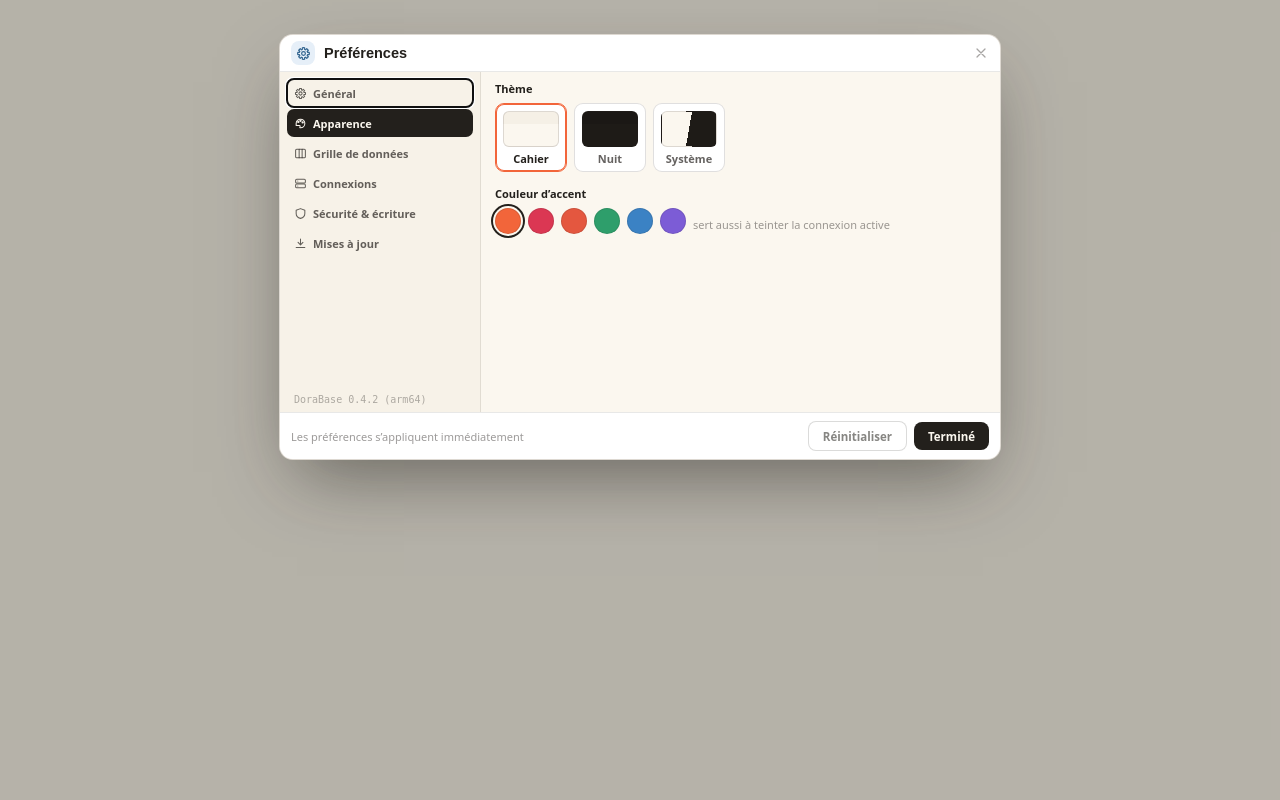
Scenario: la grille et le code (`15c`) › un corps de police élevé relève le plancher du curseur, et le dit
This screenshot has width=1280, height=800.
Click the tab "Grille de données".
click(380, 153)  # box [287,139,473,167]
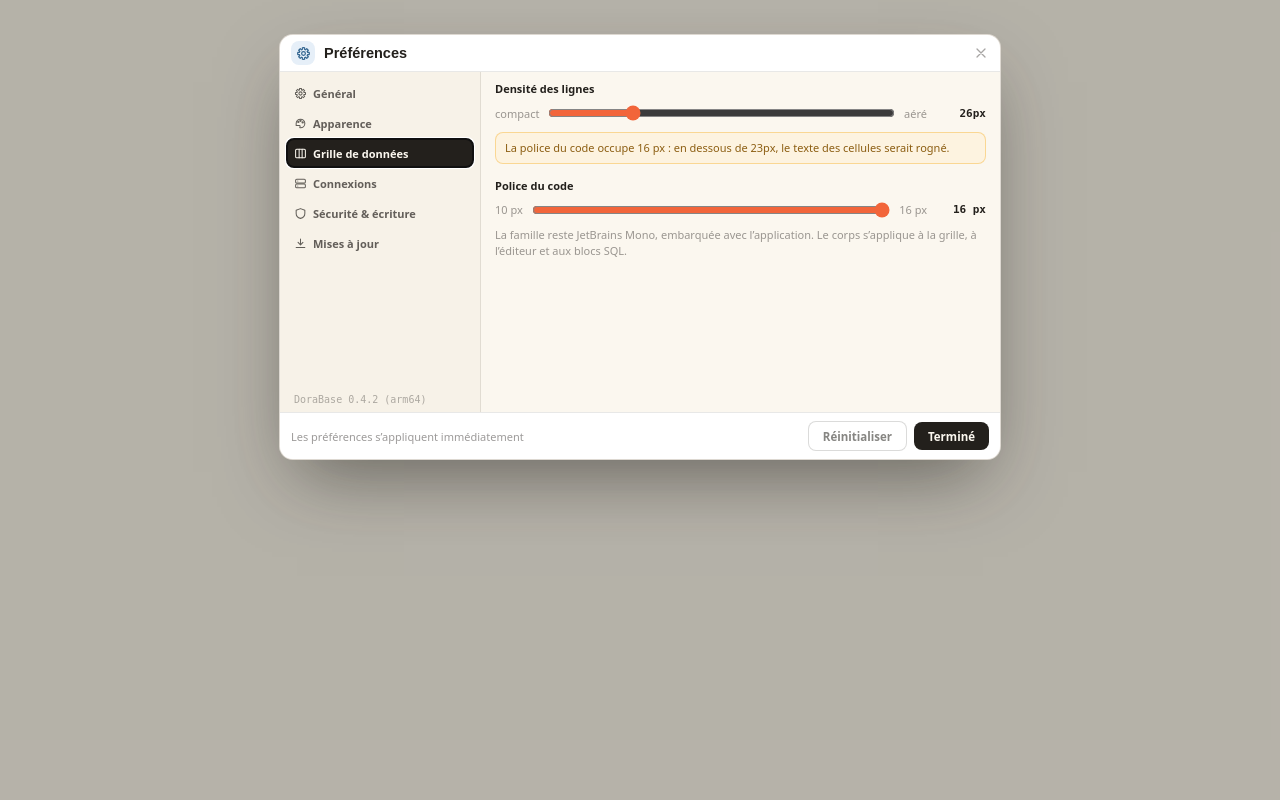
Result: the text "le texte des cellules serait rogné" is shown at [505,140,950,155]
